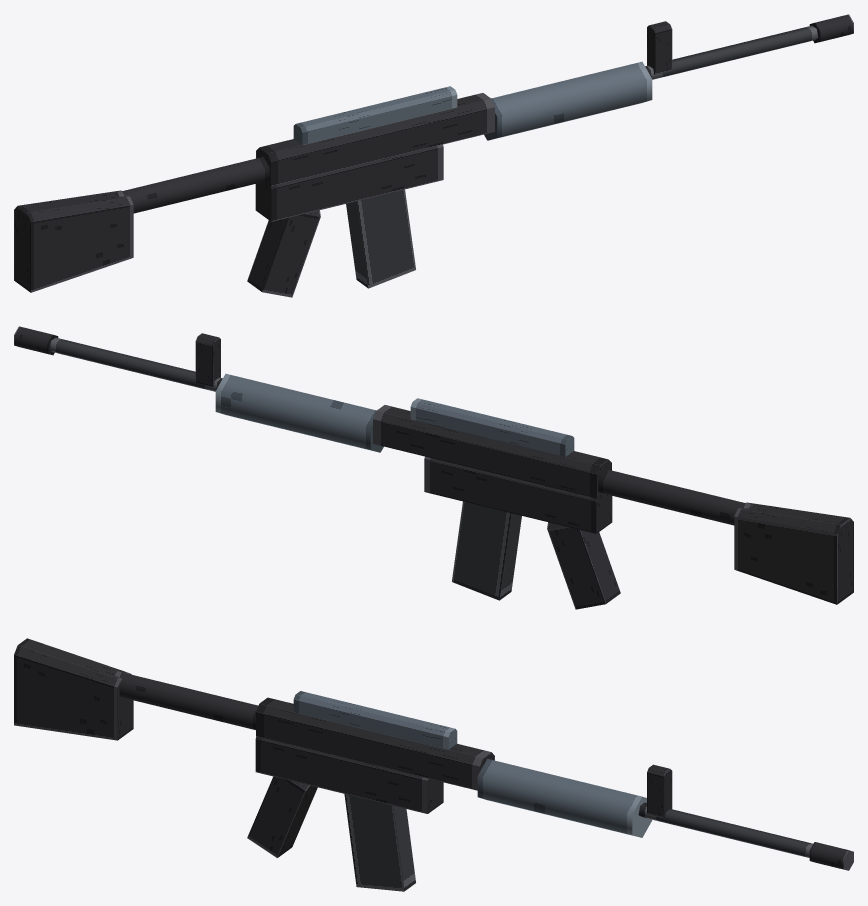
The picture shows the model from 3 angles, top to bottom: view 1: azimuth 30°, elevation 25°; view 2: azimuth 150°, elevation 25°; view 3: azimuth 330°, elevation 25°; orthographic projection.
Parts seen in each view (by area): view 1: M4A1; view 2: M4A1; view 3: M4A1.
Boxes of the visible parts, box(x1,y1,x2,y2) form: M4A1: box(14, 14, 853, 297); M4A1: box(14, 326, 853, 609); M4A1: box(14, 638, 853, 891).
Bounding box in the file's own units: 0.96 × 0.2074 × 0.0398.
Materials: 1 (1 with a texture image).
